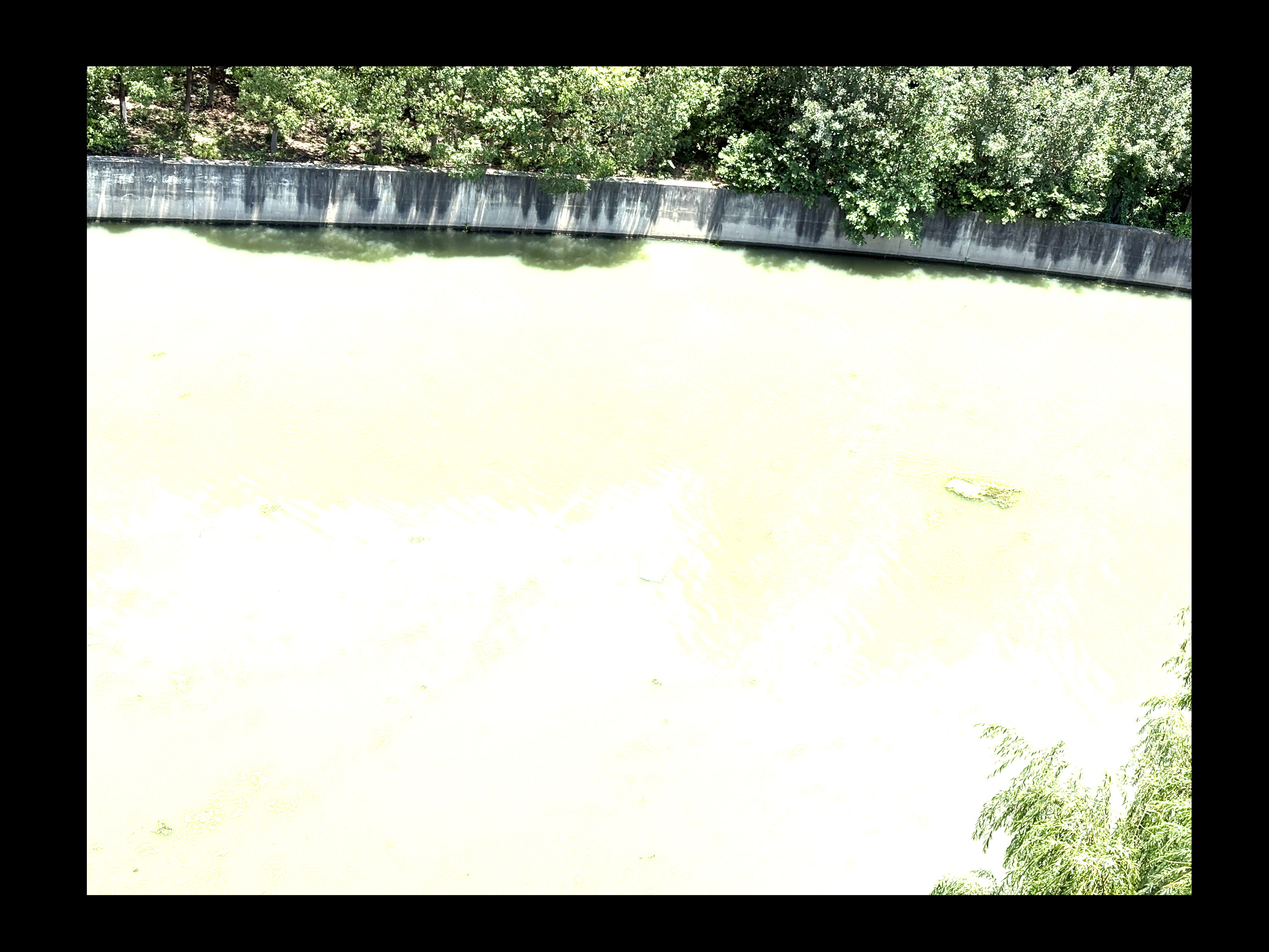Other: (180, 770, 267, 825), (945, 471, 1020, 509), (169, 673, 196, 693), (261, 500, 281, 515)
Plastic wastes: (638, 553, 668, 583)
